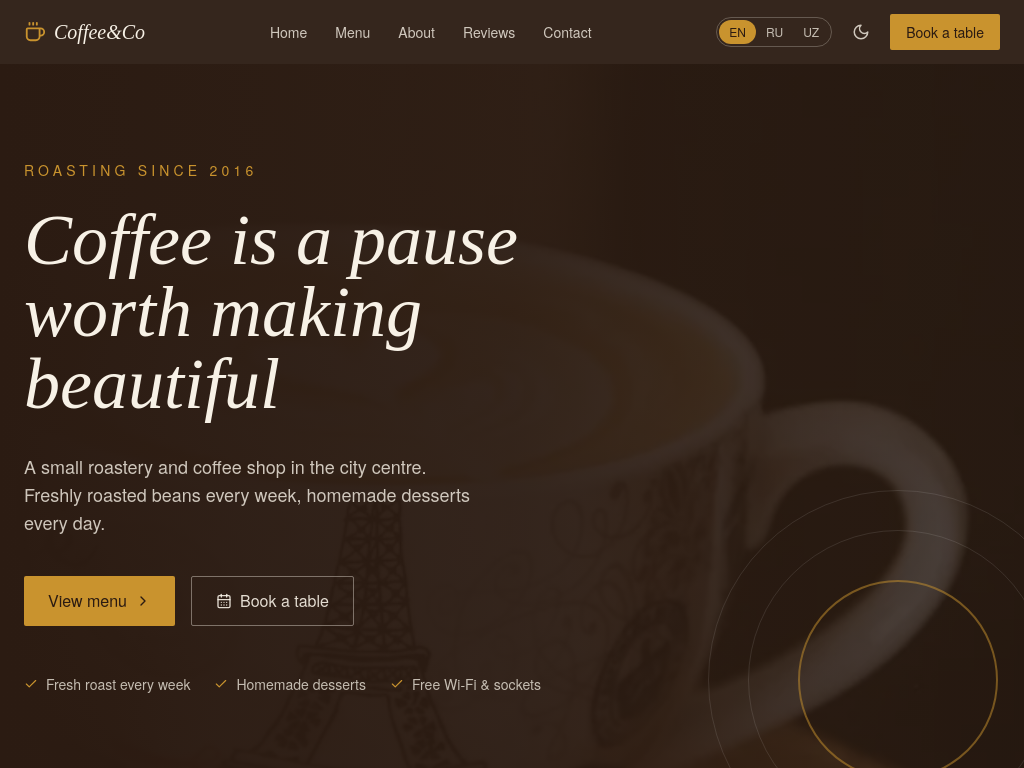
it: Landing page › renders in English and switches language
Check: the heading "Coffee is a pause worth making beautiful" is shown, box top-left (24, 204), bottom-right (600, 420)
Click the button named "Русский" at (775, 32), box top-left (756, 20), bottom-right (793, 44)
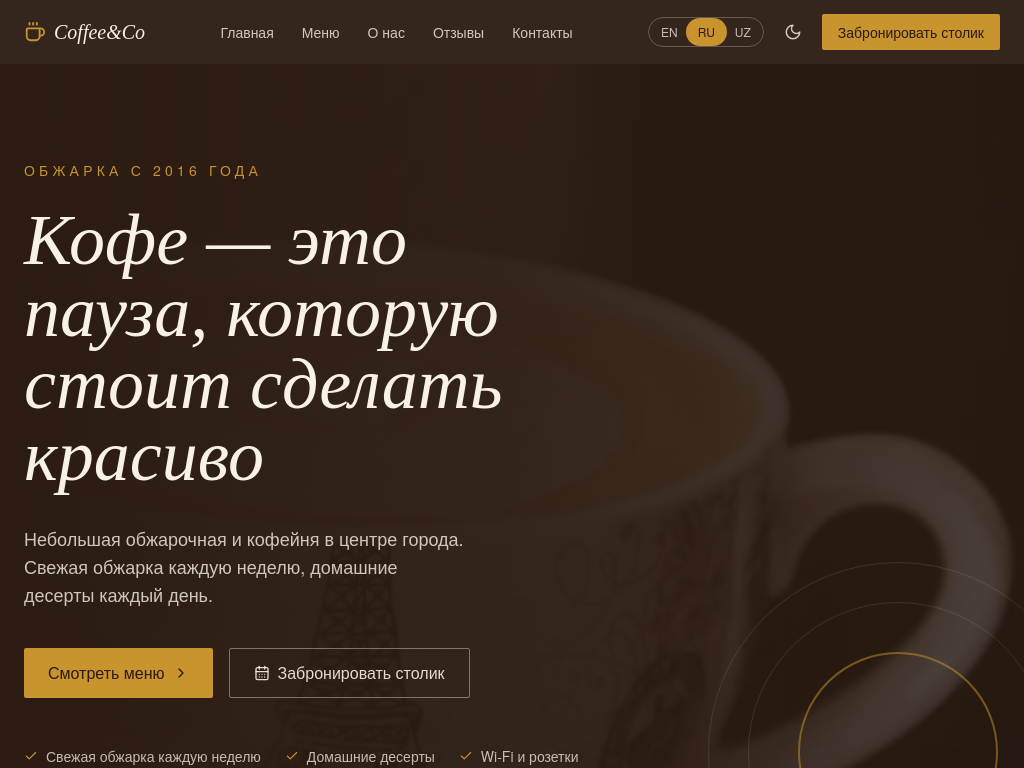
Check: the heading "Кофе — это пауза, которую стоит сделать красиво" is shown, box top-left (24, 200), bottom-right (502, 496)
